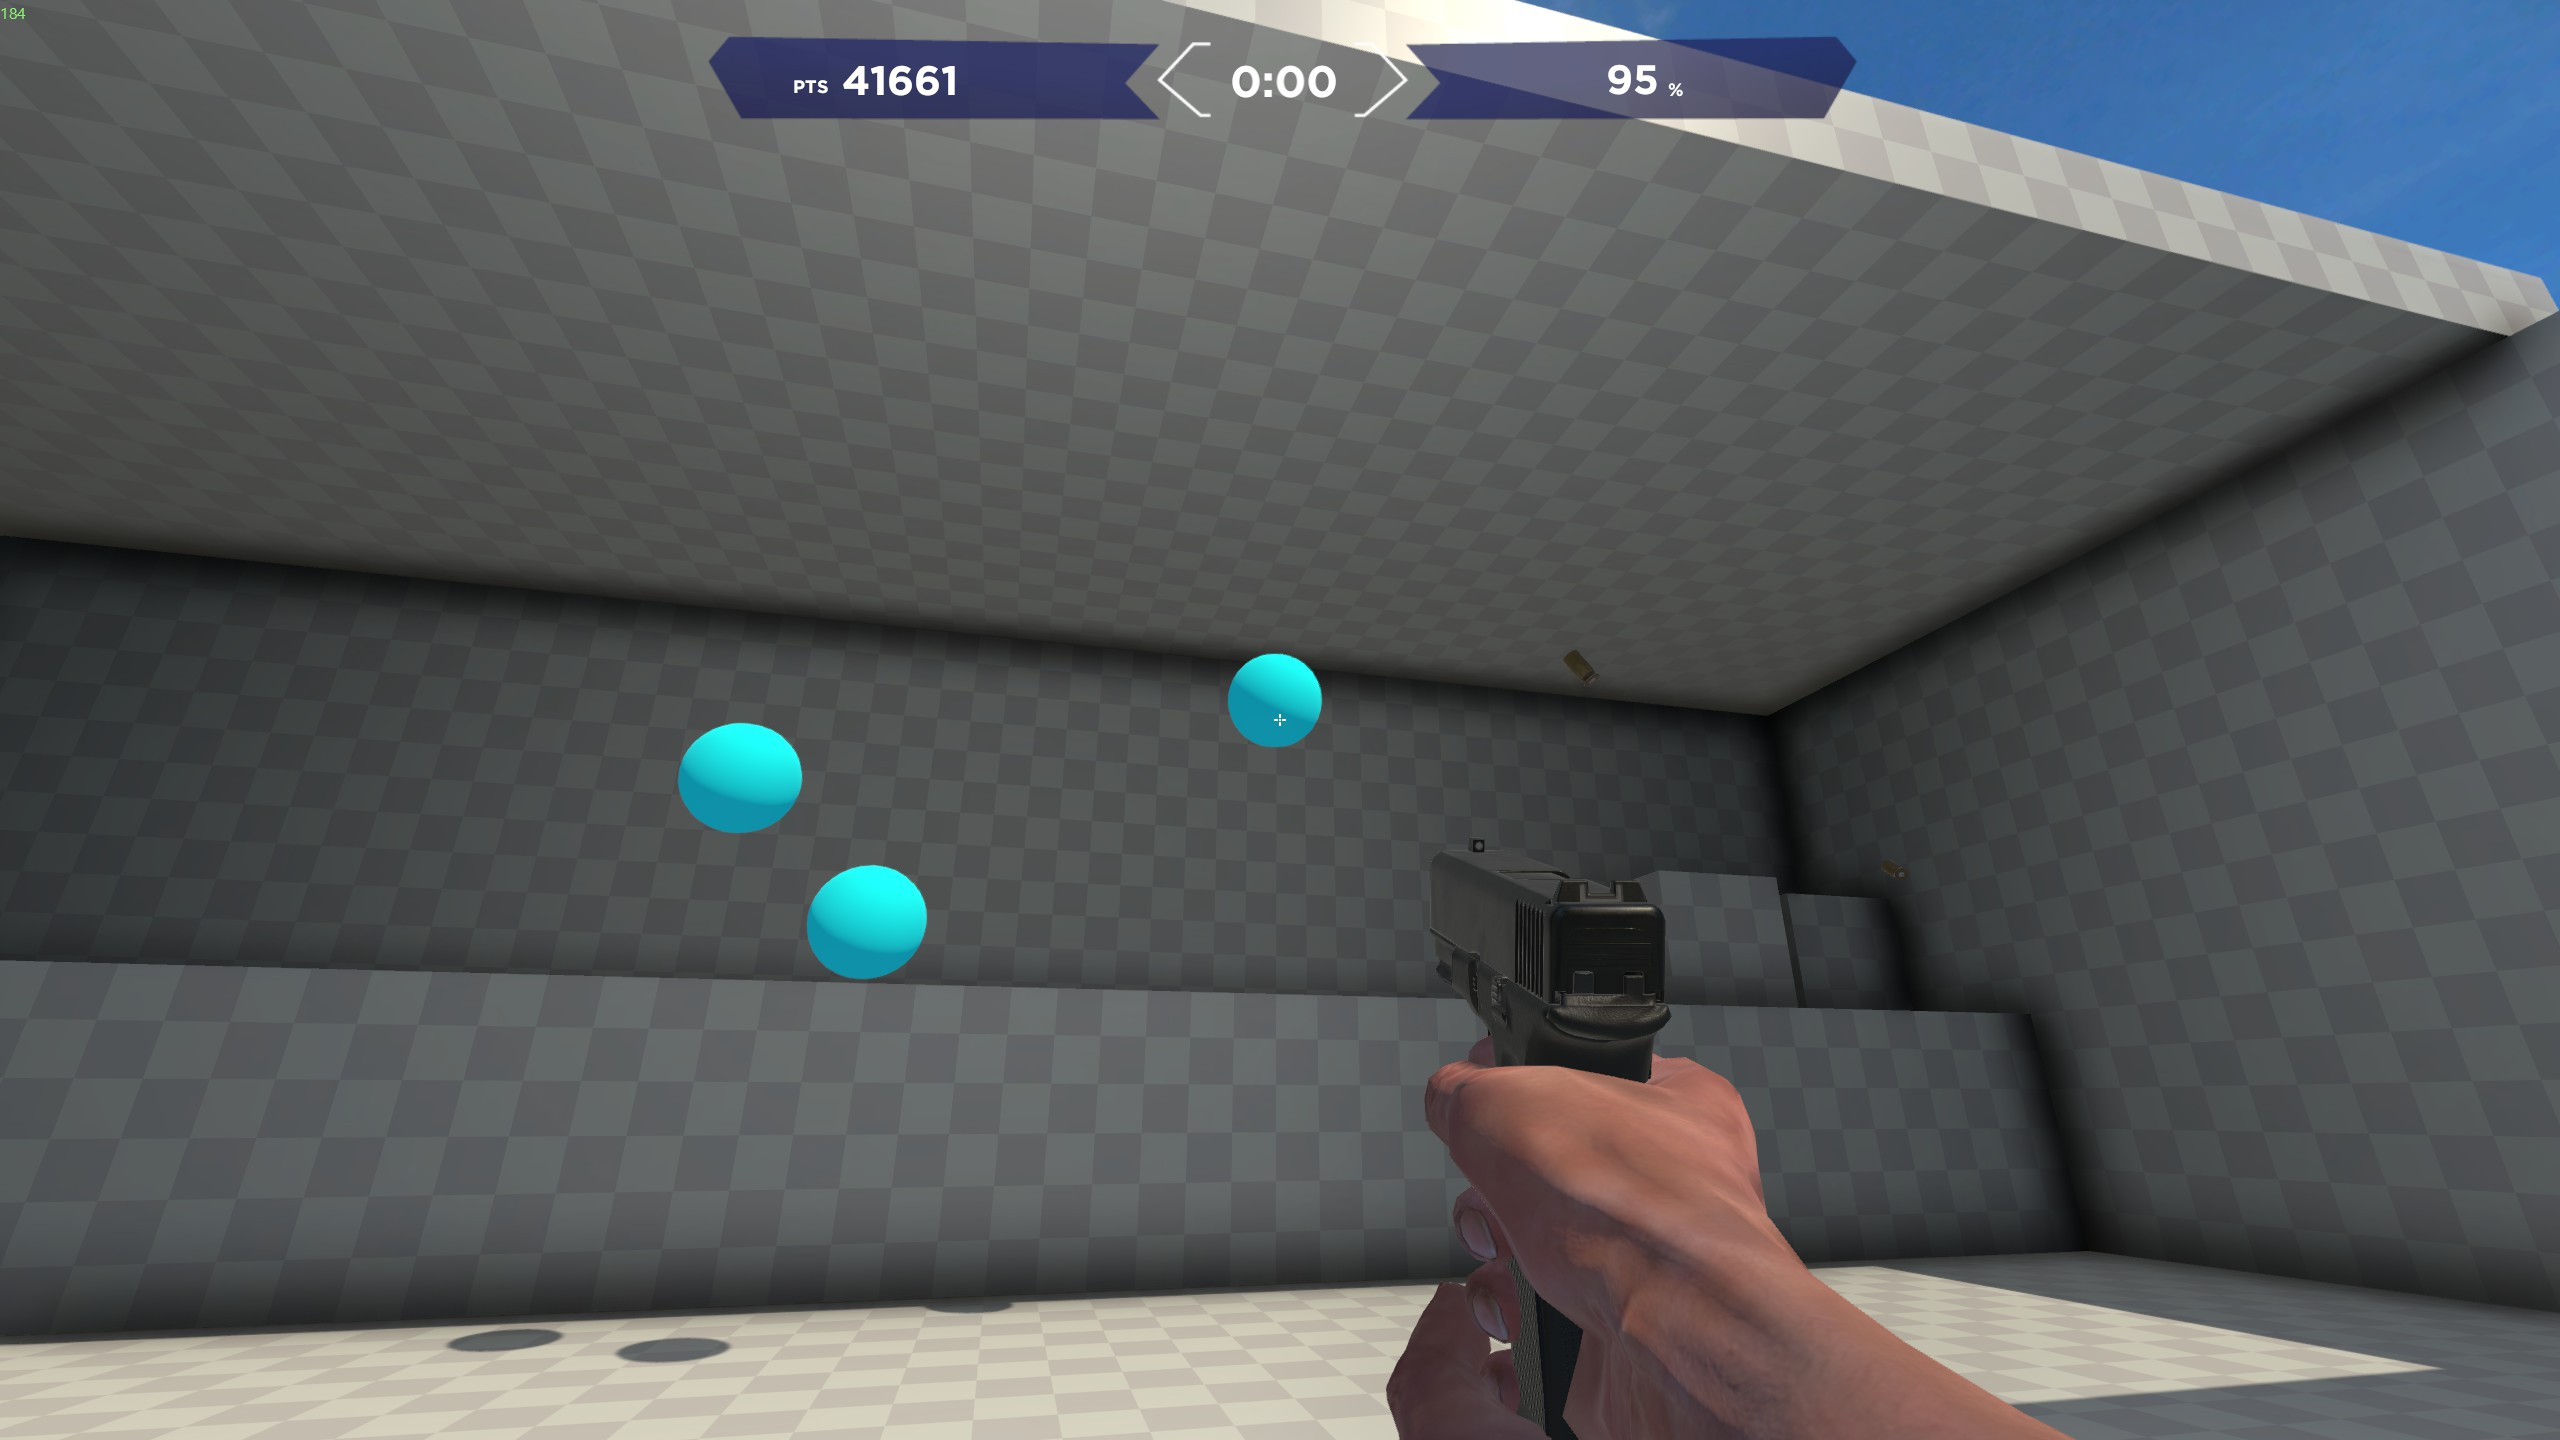Target: (645, 714, 821, 844), (811, 860, 930, 993), (1224, 651, 1335, 751)
